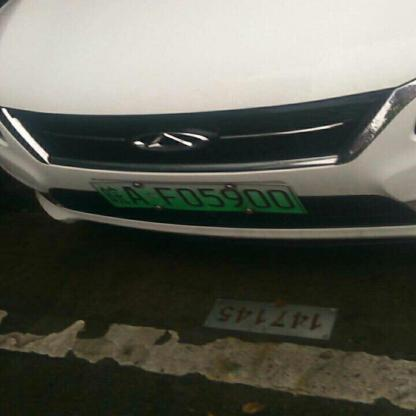lp: (90, 182, 304, 213)
